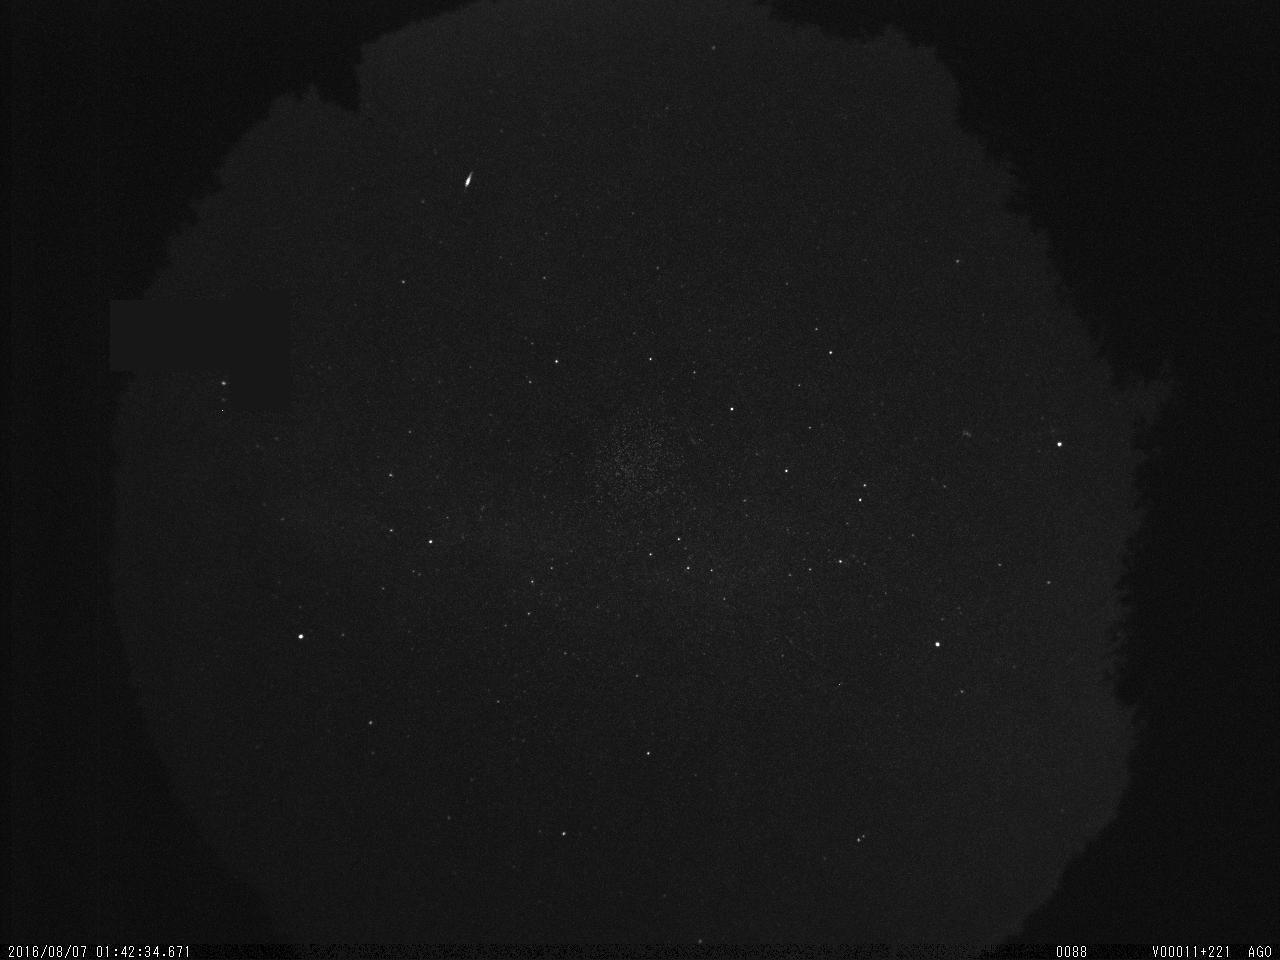meteor: (457, 167, 482, 194)
